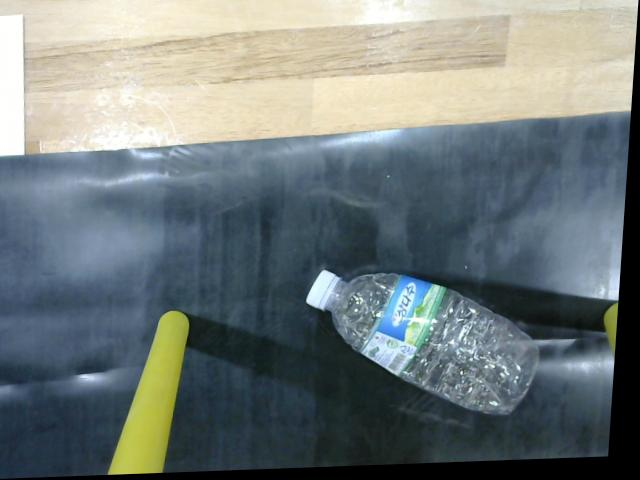bottle: (303, 260, 557, 428)
